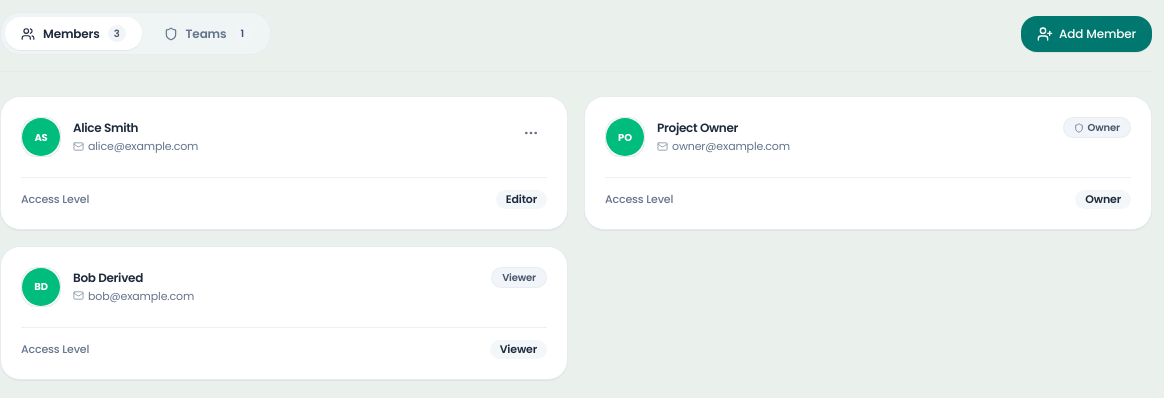
Scenario: ProjectTeamView › allows switching between Members and Teams tabs
This screenshot has width=1164, height=398.
Click the button "Teams 1" at x=207, y=34, box [148, 17, 266, 50]
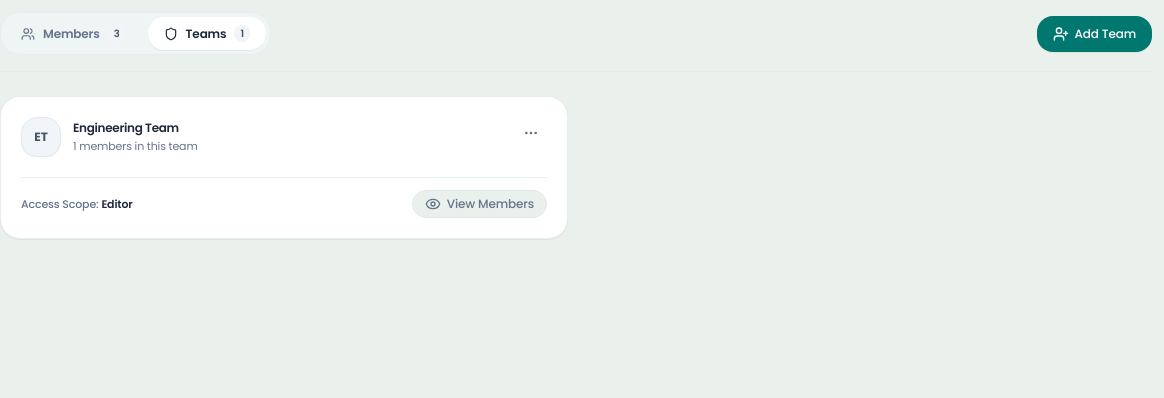
Expected: the text "Engineering Team" is shown, [73, 120, 179, 136]
Expected: the text "1 members in this team" is shown, [73, 138, 198, 155]
